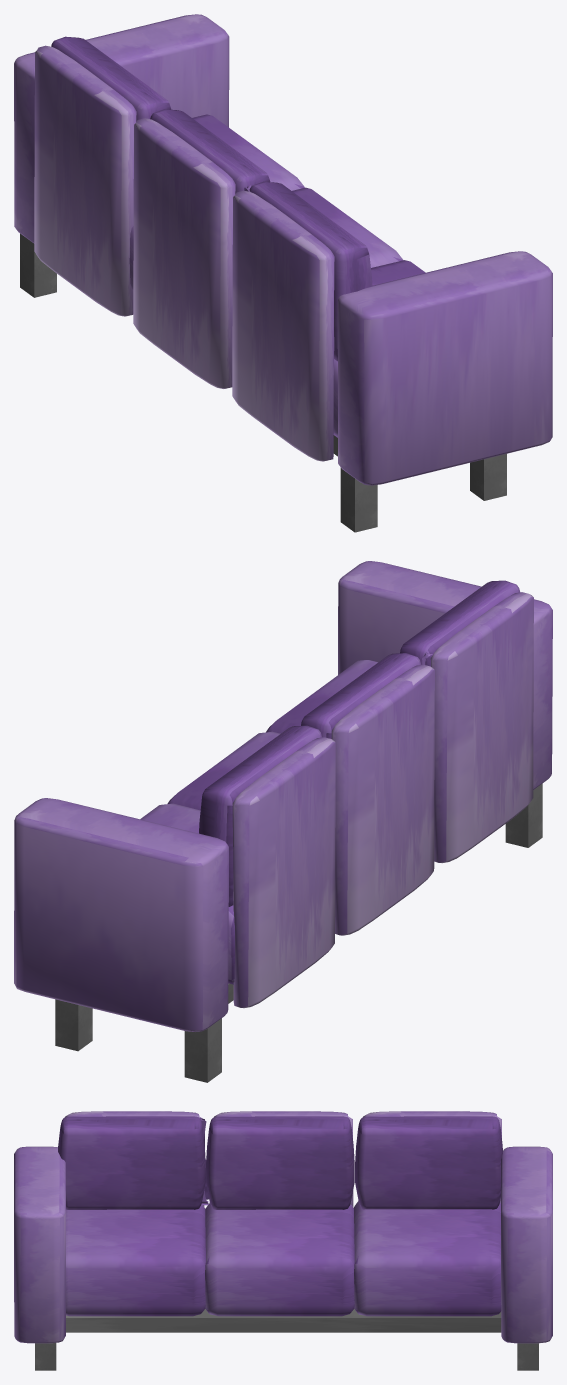
The model's file is Obj_Couch_Long_002.gltf.
3 renders of one model, top to bottom at view 1: azimuth 30°, elevation 25°; view 2: azimuth 150°, elevation 25°; view 3: azimuth 270°, elevation 25°, orthographic. The views are drawn at different scales.
Visible parts, largest first — view 1: Obj_Couch_Long.002; view 2: Obj_Couch_Long.002; view 3: Obj_Couch_Long.002.
Part boxes in pixels (x1,y1,x2,y2): Obj_Couch_Long.002: (14,14,552,532); Obj_Couch_Long.002: (14,561,552,1082); Obj_Couch_Long.002: (14,1111,552,1370).
Size of what is drawn, in the model's own units: 1.26 by 1.56 by 3.77.
Materials: 1 (1 with a texture image).
